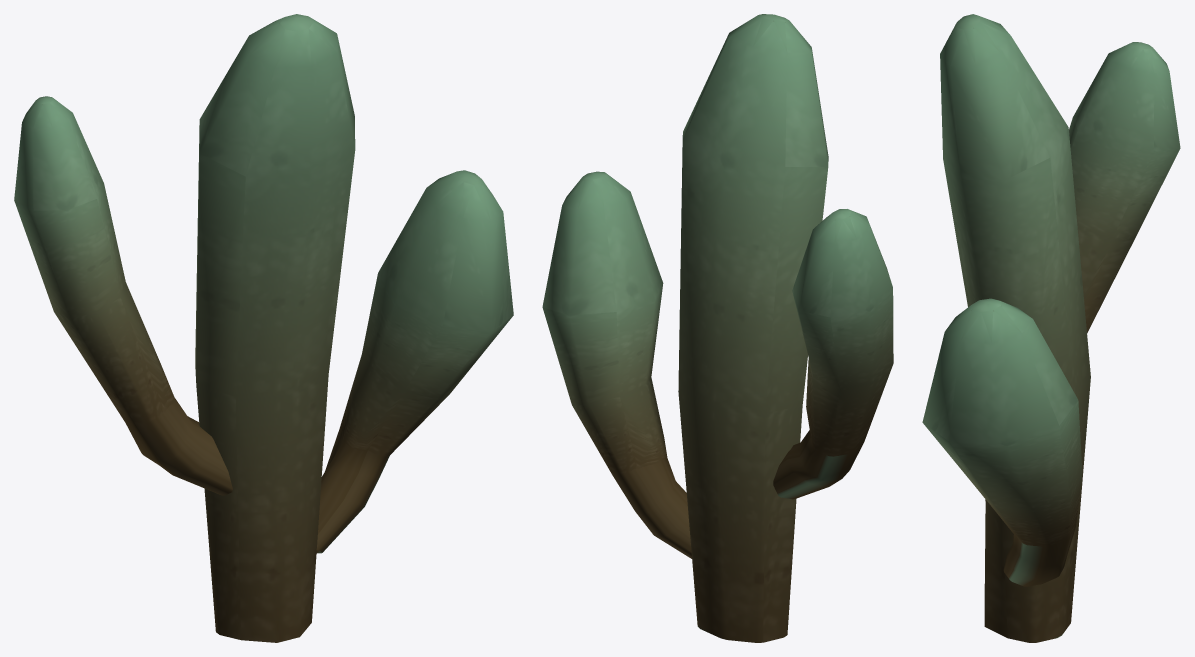
File: Cactus.fbx
3 renders of one model, left to right at view 1: azimuth 30°, elevation 25°; view 2: azimuth 150°, elevation 25°; view 3: azimuth 270°, elevation 25°, orthographic. The views are drawn at different scales.
Visible parts, largest first — view 1: Cactus.001; view 2: Cactus.001; view 3: Cactus.001.
Part boxes in pixels (box(x1,y1,x2,y2)): Cactus.001: box(14, 14, 513, 642); Cactus.001: box(542, 14, 893, 642); Cactus.001: box(922, 14, 1180, 642).
Size of the model in its own units: 524 by 759 by 294.
